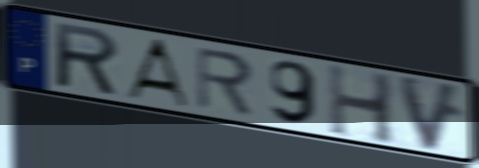9: (269, 59, 318, 127)
A: (121, 37, 192, 110)
H: (325, 60, 399, 148)
R: (51, 19, 122, 99), (193, 44, 256, 118)
V: (393, 72, 467, 155)
